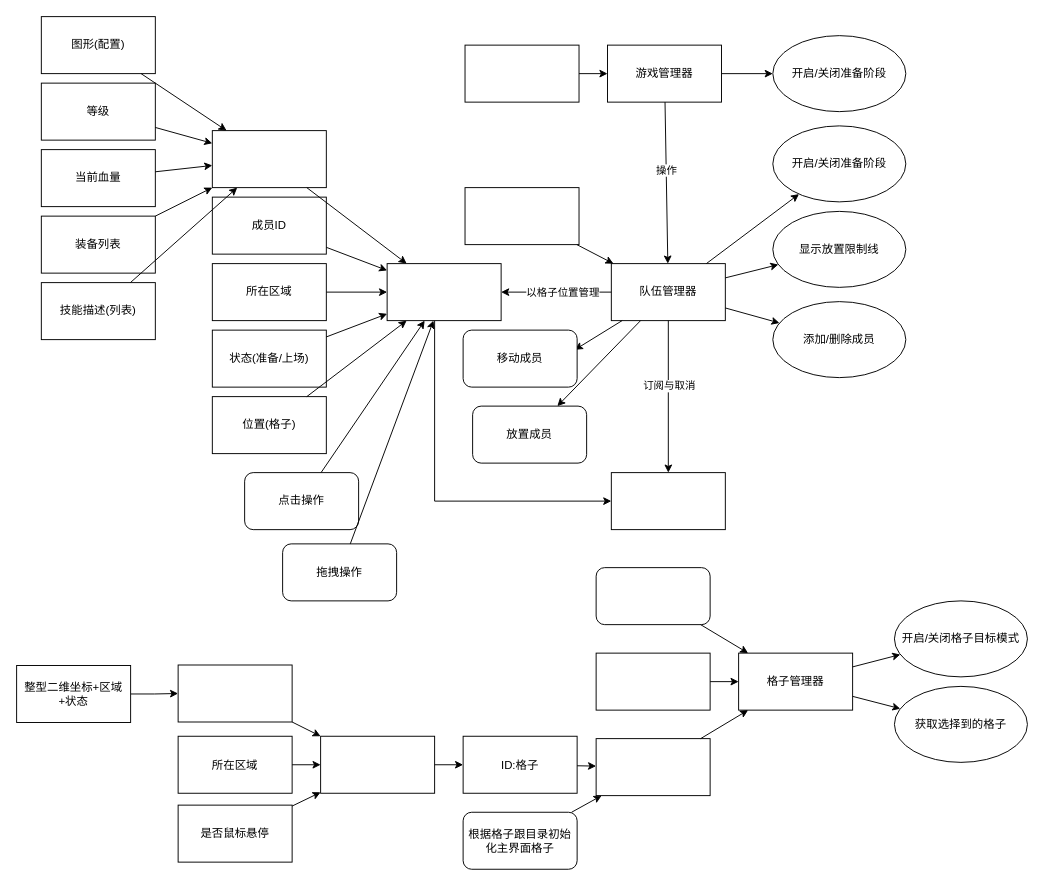
Some shapes in this 1044 by 886 pixel diagram are drawn without their labels. The centre of each missing label's shape, as x and y in pixels:
"(当前)格子表" belongs at (x=652, y=767).
"ID" belongs at (x=234, y=693).
"图形(逻辑)" belongs at (x=268, y=159).
"当前悬停格子" belongs at (x=652, y=681).
"放置限制线位置" belongs at (x=521, y=216).
"是否准备阶段" belongs at (x=521, y=73).
"格子(Mono)" belongs at (x=377, y=764).
"玩家操作接收(中转)" belongs at (x=667, y=501).
"队伍成员(Mono)" belongs at (x=443, y=292).
"高亮选到的格子" belongs at (x=652, y=596).
